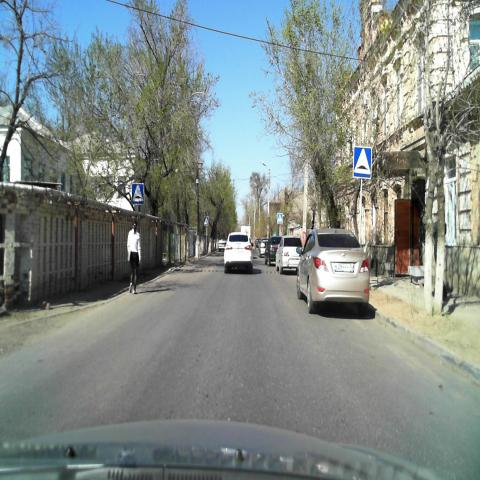5_20: (352, 145, 372, 179)
